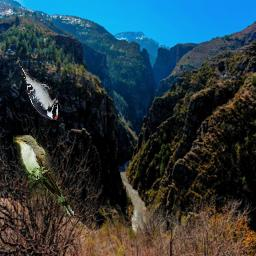Cuckoo: (14, 136, 75, 217)
Woodpecker: (18, 60, 61, 121)
